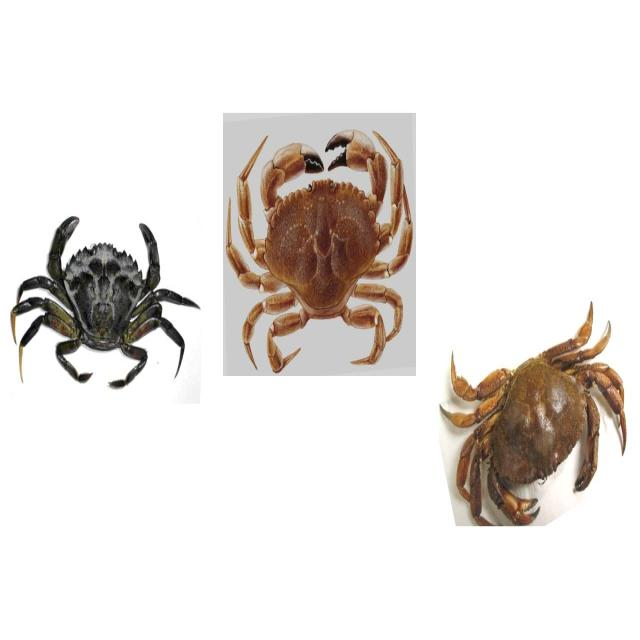egc: (2, 158, 203, 420)
jonah_crab: (224, 117, 416, 383)
rock_crab: (440, 306, 627, 522)
